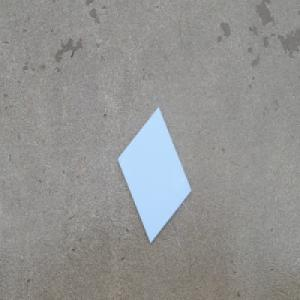PaintChip: (116, 104, 192, 243)
